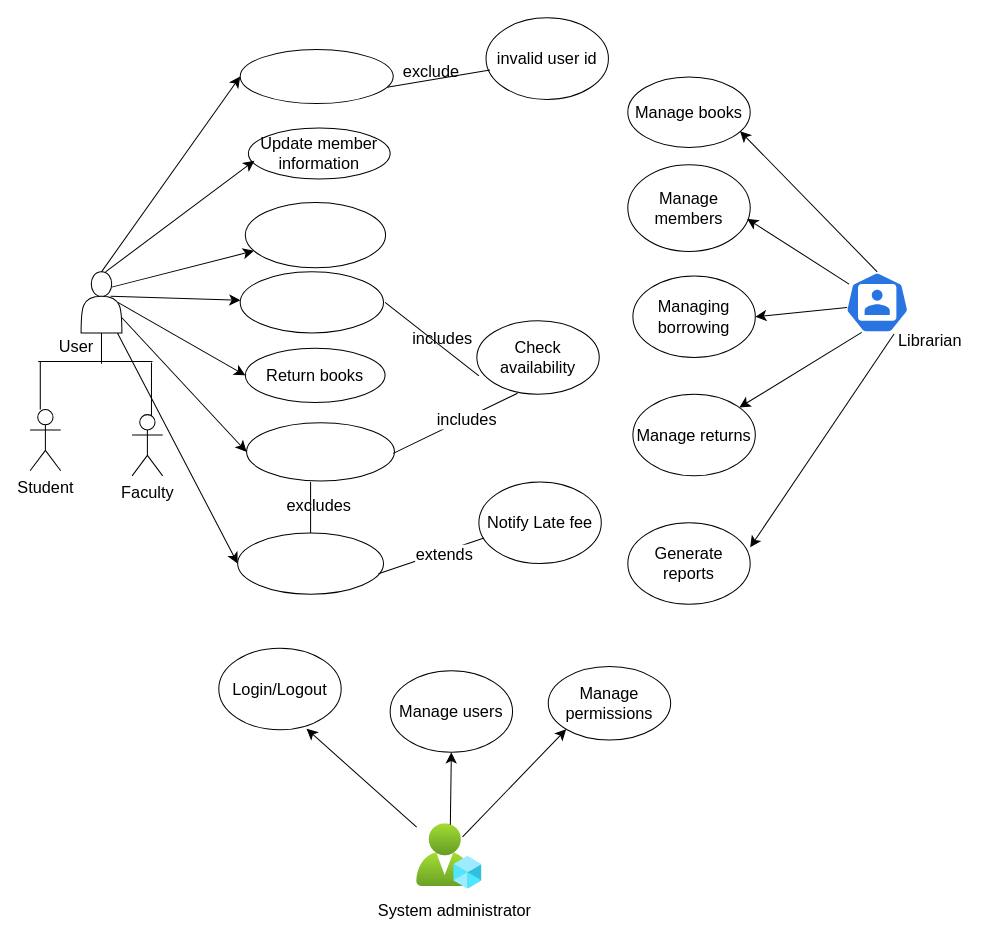
Some shapes in this 988 by 944 pixel diagram are drawn without their labels. Each missing label, with the centre of its shape:
Borrow books: (311,302)
Pay fines: (310,563)
Register(new member): (316,76)
Renew books: (320,451)
search for books: (315,234)
